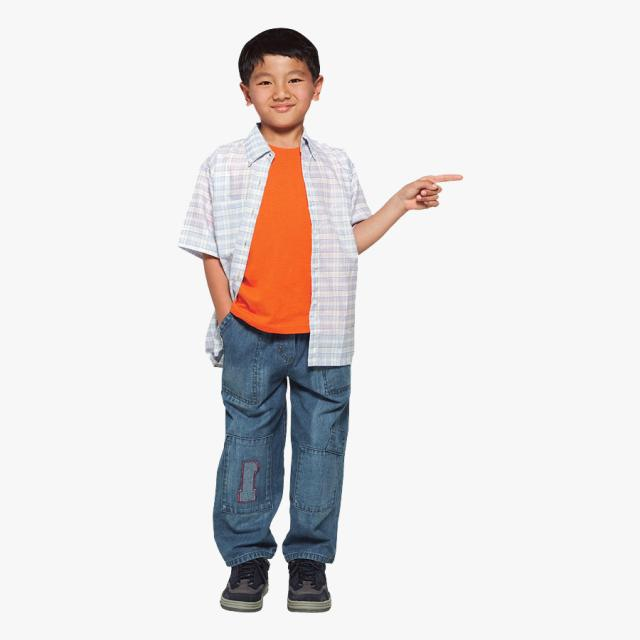child: (173, 22, 473, 605)
